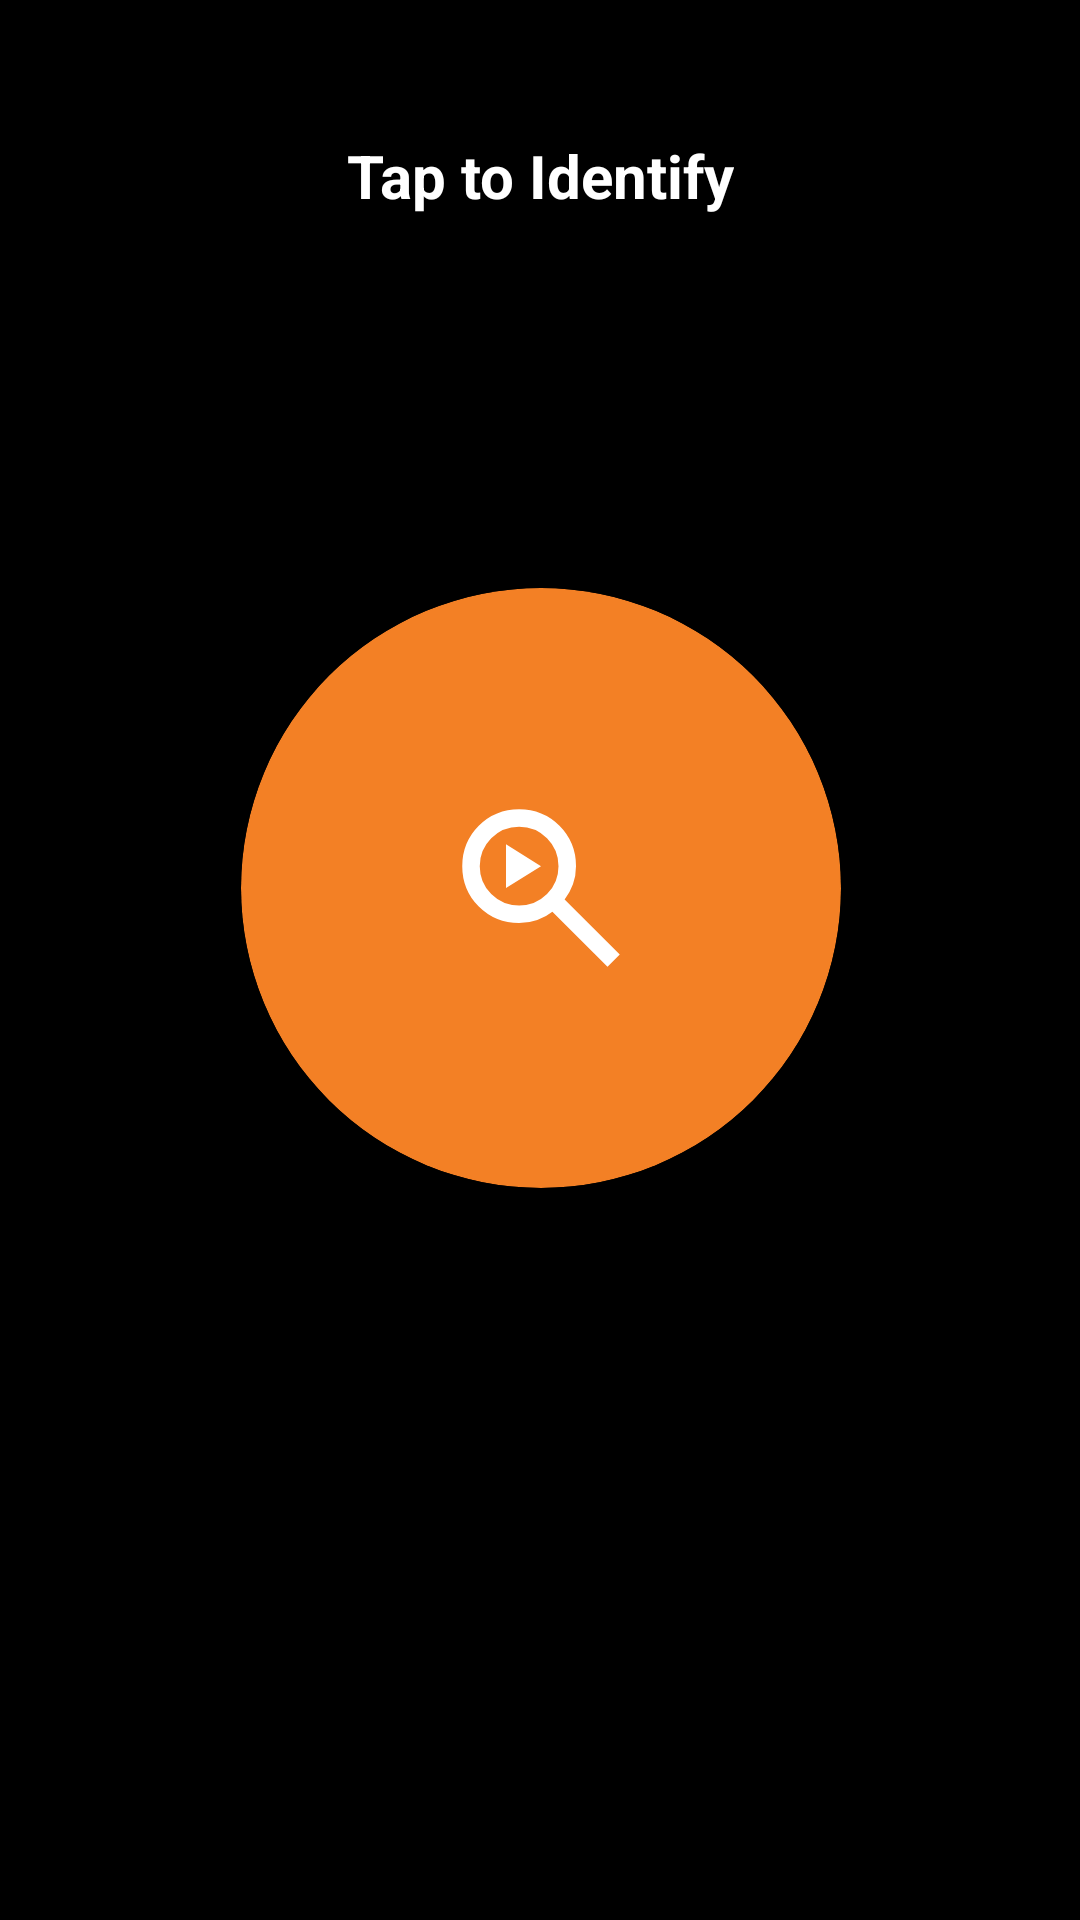

Where to tap for icons on this 1080px x 1920px app screen, as (x=x, y=y):
search music: (x=541, y=888)
